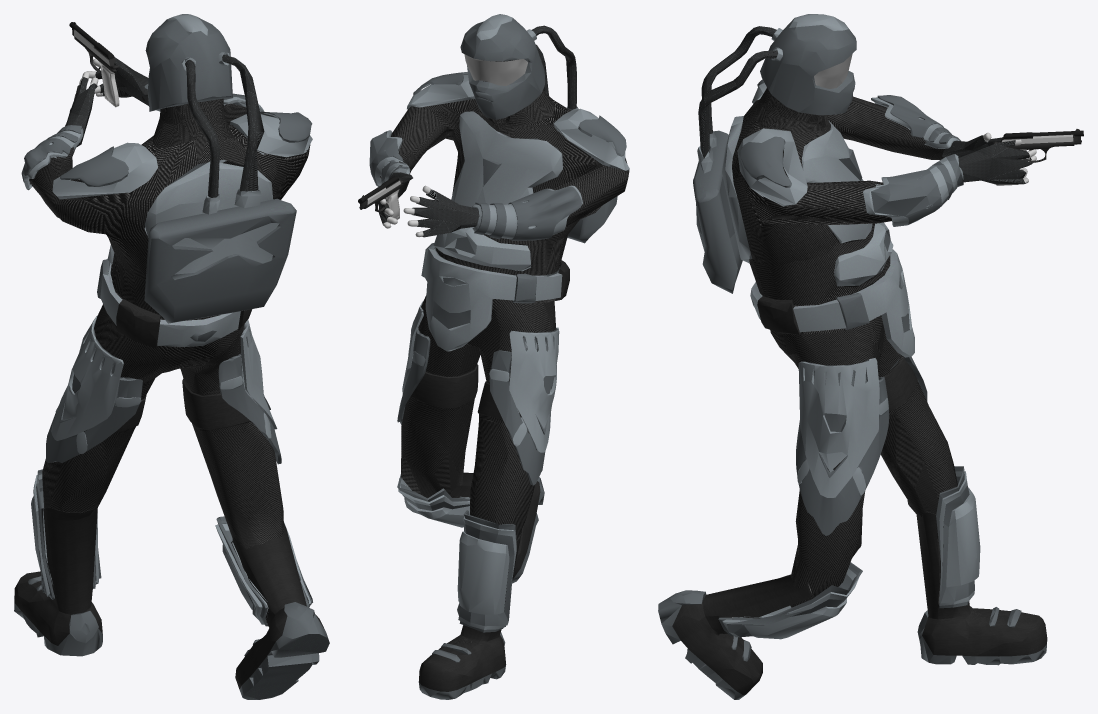
File: AndarPistola.0015.obj
3 views of the same model, side by side, from view 1: azimuth 30°, elevation 25°; view 2: azimuth 150°, elevation 25°; view 3: azimuth 270°, elevation 25° (orthographic). The views are drawn at different scales.
Parts seen in each view (by area): view 1: personajeskefix:personaje:extrudedSurface2 polySurface132, personajeskefix:personaje:bota1 polySurface132, personajeskefix:personaje:PANTALON polySurface132, personajeskefix:personaje:CAMISETABUENA polySurface132, personajeskefix:personaje:pPipe4 polySurface132, personajeskefix:personaje:pCube4 polySurface132, personajeskefix:personaje:cosoarmdaurapierna1 polySurface132, personajeskefix:personaje:cinturon polySurface132, personajeskefix:personaje:armadbota1 polySurface132, personajeskefix:personaje:polySurface6 polySurface132, personajeskefix:personaje:cosoarmadurapierna2 polySurface132, personajeskefix:personaje:HOMBRO2 polySurface132 (+5 smaller); view 2: personajeskefix:personaje:pPipe4 polySurface132, personajeskefix:personaje:PANTALON polySurface132, personajeskefix:personaje:CAMISETABUENA polySurface132, personajeskefix:personaje:cinturon polySurface132, personajeskefix:personaje:extrudedSurface2 polySurface132, personajeskefix:personaje:bota1 polySurface132, personajeskefix:personaje:pCube4 polySurface132, personajeskefix:personaje:armadbota1 polySurface132, personajeskefix:personaje:cosoarmdaurapierna1 polySurface132, personajeskefix:personaje:polySurface2 polySurface132, personajeskefix:personaje:polySurface6 polySurface132, personajeskefix:personaje:gafas polySurface132 (+8 smaller); view 3: personajeskefix:personaje:CAMISETABUENA polySurface132, personajeskefix:personaje:bota1 polySurface132, personajeskefix:personaje:pPipe4 polySurface132, personajeskefix:personaje:PANTALON polySurface132, personajeskefix:personaje:extrudedSurface2 polySurface132, personajeskefix:personaje:pCube4 polySurface132, personajeskefix:personaje:cinturon polySurface132, personajeskefix:personaje:armadbota1 polySurface132, personajeskefix:personaje:cosoarmadurapierna2 polySurface132, personajeskefix:personaje:hombro1 polySurface132, pistola:Cylinder001 polySurface132, personajeskefix:personaje:polySurface2 polySurface132 (+5 smaller).
Boxes of the visible parts, x1,y1,x2,y2 form: personajeskefix:personaje:extrudedSurface2 polySurface132: [144, 14, 296, 323]; personajeskefix:personaje:bota1 polySurface132: [14, 505, 329, 699]; personajeskefix:personaje:PANTALON polySurface132: [42, 284, 283, 571]; personajeskefix:personaje:CAMISETABUENA polySurface132: [29, 96, 310, 347]; personajeskefix:personaje:pPipe4 polySurface132: [50, 57, 312, 264]; personajeskefix:personaje:pCube4 polySurface132: [36, 319, 312, 626]; personajeskefix:personaje:cosoarmdaurapierna1 polySurface132: [51, 315, 141, 453]; personajeskefix:personaje:cinturon polySurface132: [97, 259, 252, 347]; personajeskefix:personaje:armadbota1 polySurface132: [31, 474, 311, 624]; personajeskefix:personaje:polySurface6 polySurface132: [114, 379, 250, 432]; personajeskefix:personaje:cosoarmadurapierna2 polySurface132: [218, 353, 281, 464]; personajeskefix:personaje:HOMBRO2 polySurface132: [60, 146, 128, 186]; personajeskefix:personaje:pPipe4 polySurface132: [369, 74, 629, 270]; personajeskefix:personaje:PANTALON polySurface132: [401, 266, 555, 540]; personajeskefix:personaje:CAMISETABUENA polySurface132: [380, 60, 629, 303]; personajeskefix:personaje:cinturon polySurface132: [421, 243, 569, 351]; personajeskefix:personaje:extrudedSurface2 polySurface132: [460, 14, 617, 243]; personajeskefix:personaje:bota1 polySurface132: [418, 472, 544, 699]; personajeskefix:personaje:pCube4 polySurface132: [397, 301, 554, 632]; personajeskefix:personaje:armadbota1 polySurface132: [398, 478, 516, 629]; personajeskefix:personaje:cosoarmdaurapierna1 polySurface132: [489, 327, 559, 452]; personajeskefix:personaje:polySurface2 polySurface132: [474, 186, 581, 241]; personajeskefix:personaje:polySurface6 polySurface132: [411, 364, 502, 419]; personajeskefix:personaje:gafas polySurface132: [464, 54, 528, 85]; personajeskefix:personaje:CAMISETABUENA polySurface132: [732, 88, 944, 333]; personajeskefix:personaje:bota1 polySurface132: [658, 501, 1047, 699]; personajeskefix:personaje:pPipe4 polySurface132: [722, 82, 1032, 286]; personajeskefix:personaje:PANTALON polySurface132: [770, 273, 957, 607]; personajeskefix:personaje:extrudedSurface2 polySurface132: [693, 14, 856, 293]; personajeskefix:personaje:pCube4 polySurface132: [718, 356, 974, 637]; personajeskefix:personaje:cinturon polySurface132: [750, 249, 914, 357]; personajeskefix:personaje:armadbota1 polySurface132: [722, 471, 980, 639]; personajeskefix:personaje:cosoarmadurapierna2 polySurface132: [796, 370, 889, 535]; personajeskefix:personaje:hombro1 polySurface132: [740, 136, 791, 187]; pistola:Cylinder001 polySurface132: [993, 129, 1083, 185]; personajeskefix:personaje:polySurface2 polySurface132: [877, 95, 960, 143].
Bounding box in the file's own units: 3.67 × 9.31 × 5.42.
